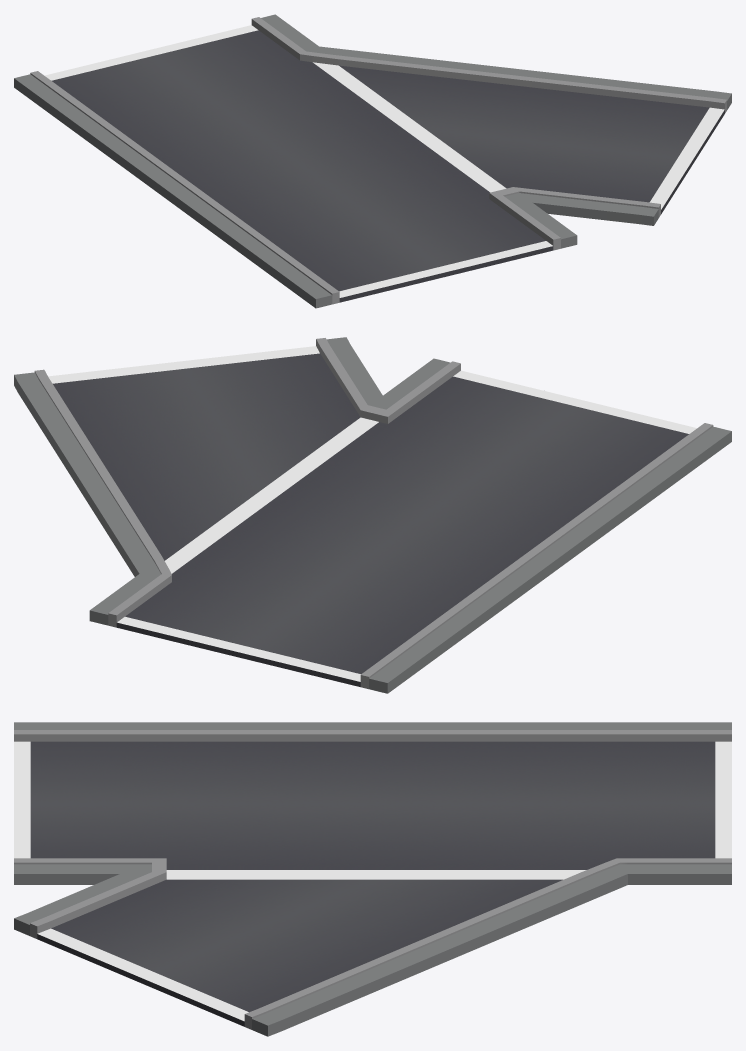
Rendered from Road12_Diagonal_Splitter_L.obj.
The picture shows the model from 3 angles, top to bottom: view 1: azimuth 30°, elevation 25°; view 2: azimuth 150°, elevation 25°; view 3: azimuth 270°, elevation 25°; orthographic projection. The views are drawn at different scales.
Parts seen in each view (by area): view 1: Road12_Diagonal_Splitter_L_Road10Material; view 2: Road12_Diagonal_Splitter_L_Road10Material; view 3: Road12_Diagonal_Splitter_L_Road10Material.
Part boxes in pixels (bbox=[...]): Road12_Diagonal_Splitter_L_Road10Material: bbox=[14, 14, 731, 308]; Road12_Diagonal_Splitter_L_Road10Material: bbox=[14, 337, 731, 693]; Road12_Diagonal_Splitter_L_Road10Material: bbox=[14, 722, 731, 1036].
Size of the model in its own units: 24 by 0.4754 by 24.
